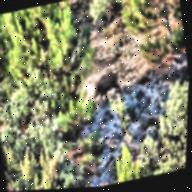boar: (89, 66, 126, 111)
